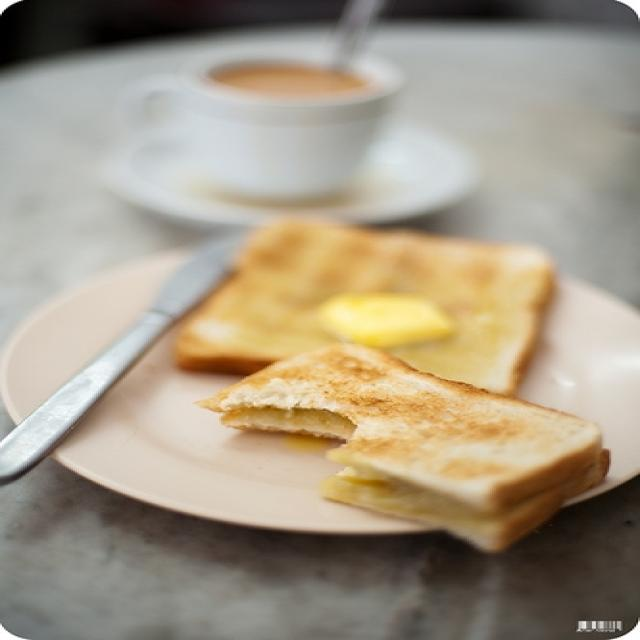面包点心: (6, 220, 636, 567)
